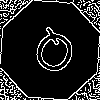Q: (25, 25, 81, 86)
